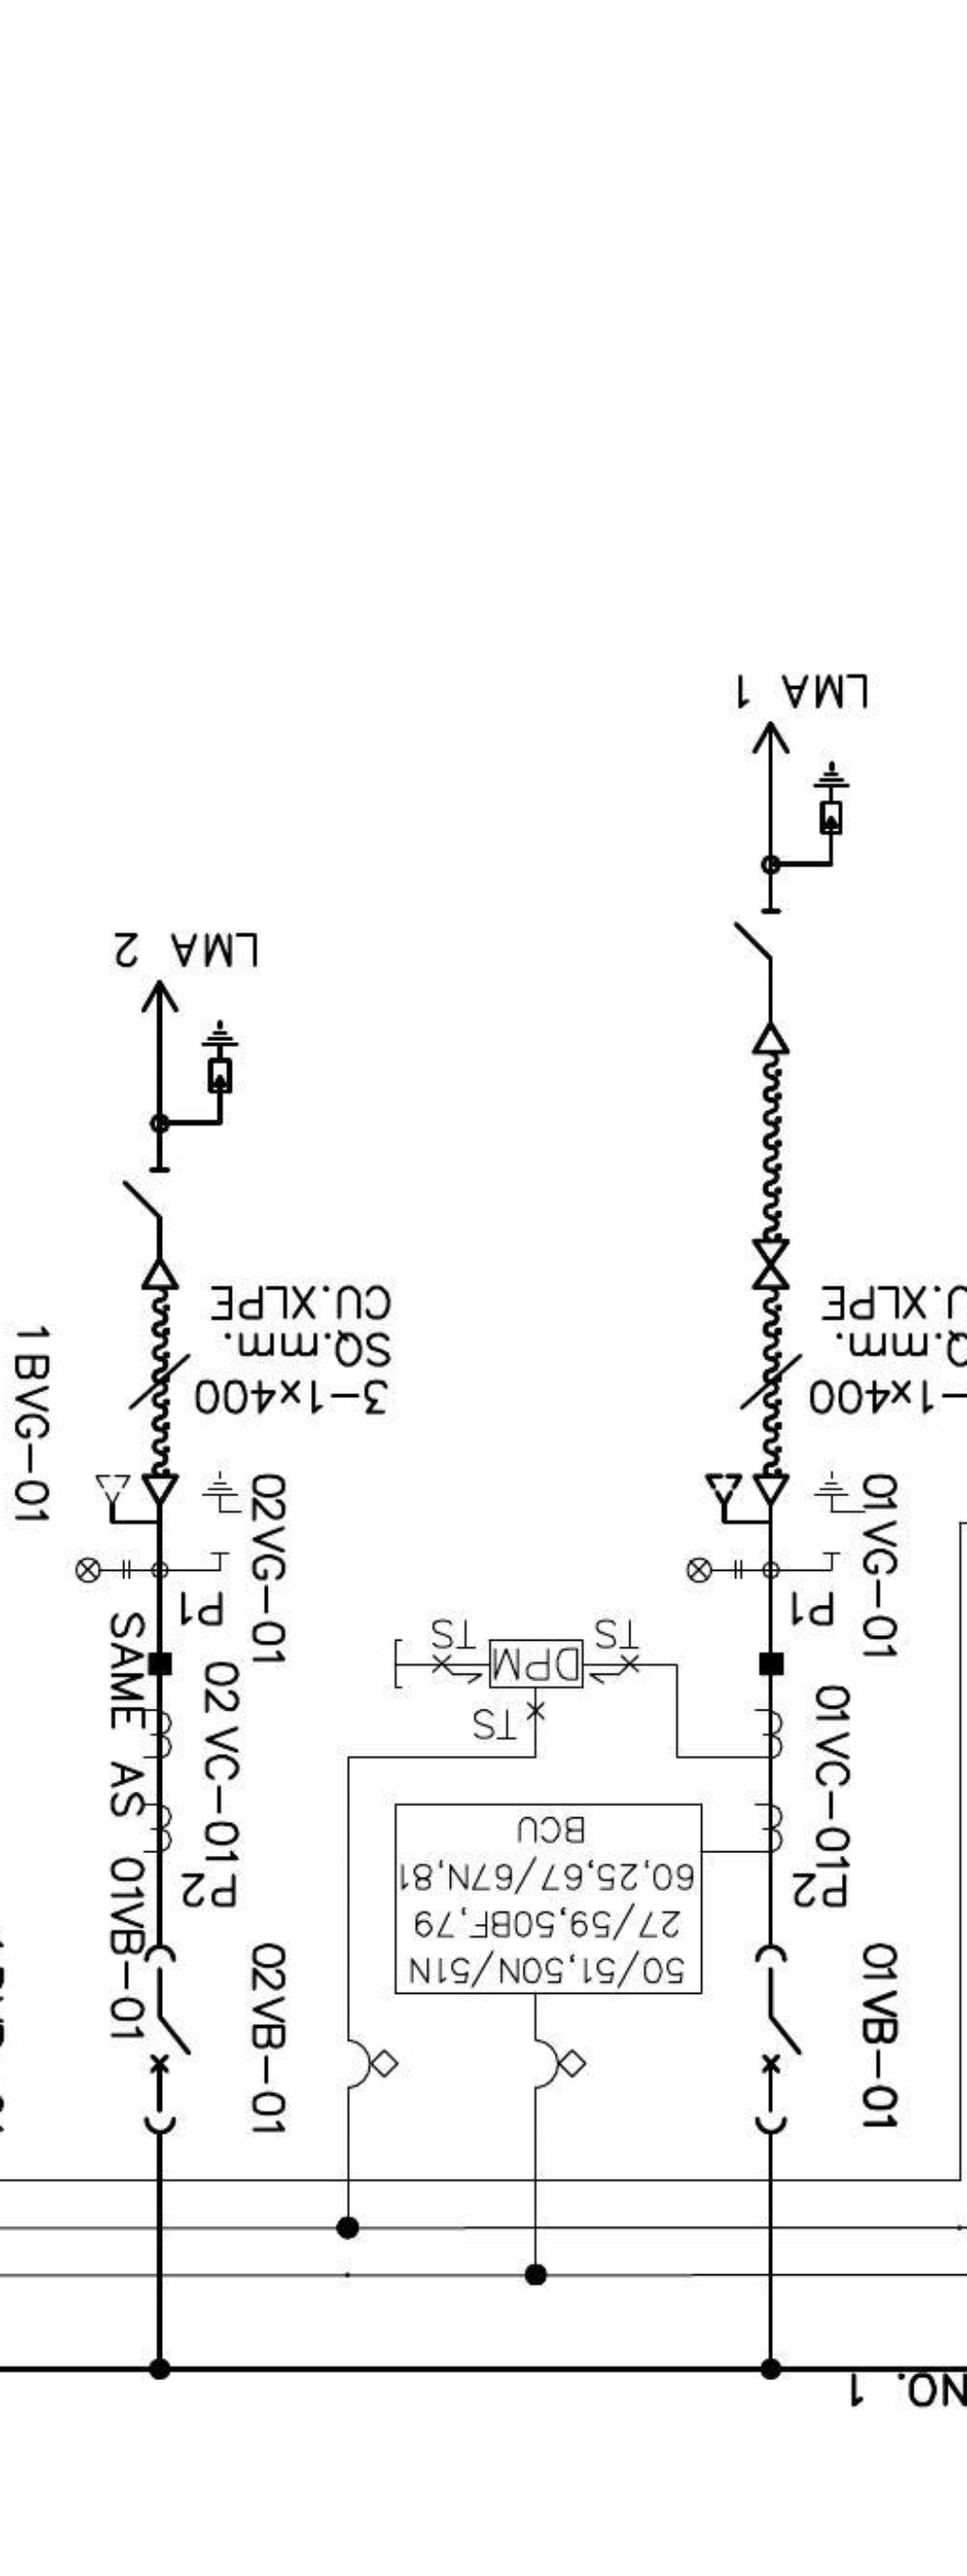22_breaker: (141, 1943, 194, 2136), (753, 1942, 804, 2136)
22_ds_la_out: (122, 977, 240, 1219), (733, 720, 850, 961)
22_gs: (811, 1470, 867, 1557), (199, 1470, 245, 1557)
22_ll: (686, 1556, 743, 1585), (74, 1556, 132, 1584)
DPM: (487, 1636, 587, 1690)
terminator_single: (138, 1257, 181, 1291), (748, 1022, 791, 1056)
terminator_splicing_kits: (752, 1239, 791, 1291)
terminator_w_future: (704, 1472, 793, 1528), (92, 1472, 181, 1526)
